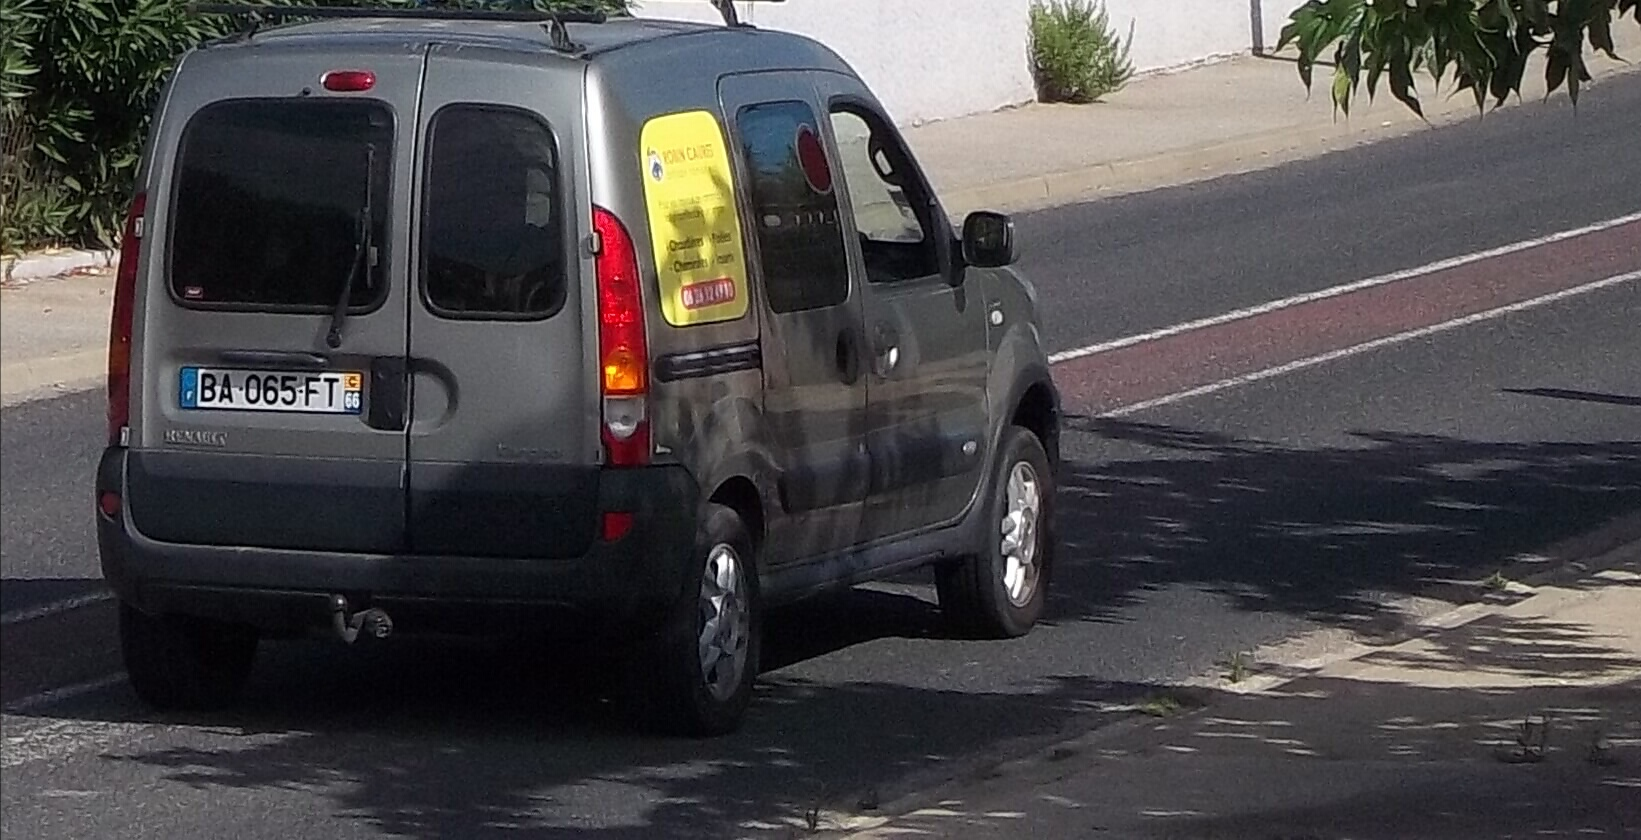licence plate: (178, 361, 366, 415)
